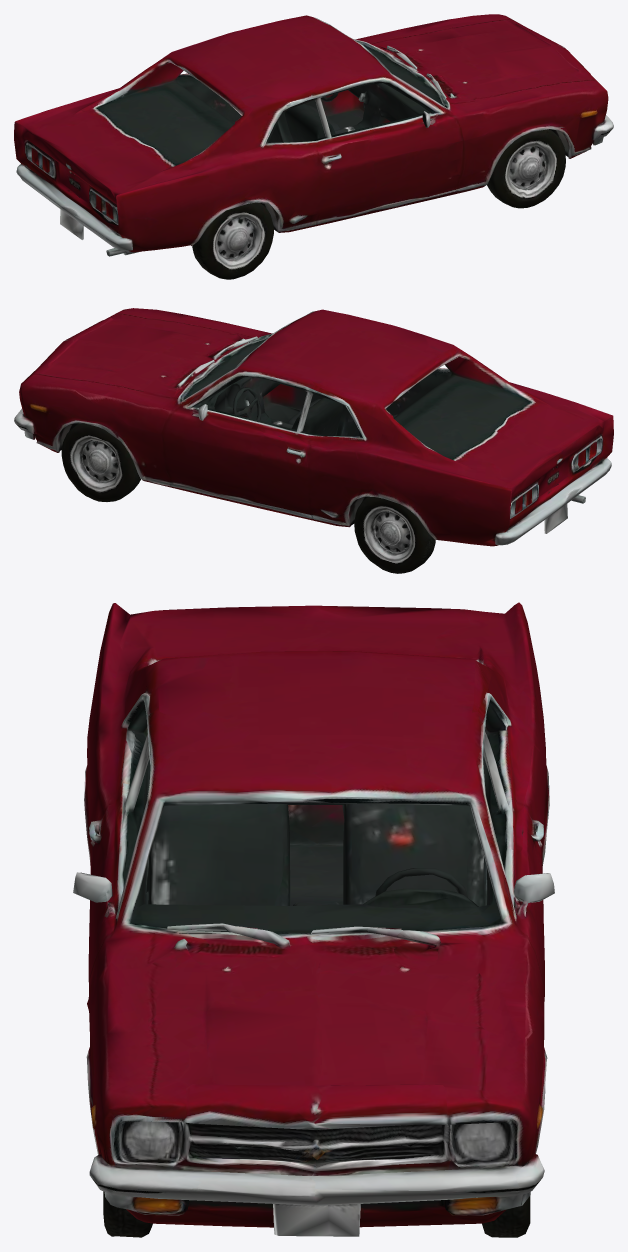
The model's file is car_sedan_red.glb.
The picture shows the model from 3 angles, top to bottom: view 1: azimuth 30°, elevation 25°; view 2: azimuth 150°, elevation 25°; view 3: azimuth 270°, elevation 25°; orthographic projection. The views are drawn at different scales.
Parts seen in each view (by area): view 1: tripo_node_29f23b44-8fce-4db1-bb77-dd0b0ff199e8; view 2: tripo_node_29f23b44-8fce-4db1-bb77-dd0b0ff199e8; view 3: tripo_node_29f23b44-8fce-4db1-bb77-dd0b0ff199e8.
Boxes of the visible parts, left/top/right/bottom form: tripo_node_29f23b44-8fce-4db1-bb77-dd0b0ff199e8: left=14, top=14, right=613, bottom=279; tripo_node_29f23b44-8fce-4db1-bb77-dd0b0ff199e8: left=14, top=308, right=613, bottom=573; tripo_node_29f23b44-8fce-4db1-bb77-dd0b0ff199e8: left=73, top=602, right=554, bottom=1237.
Size of the model in its own units: 0.9996 by 0.3075 by 0.4084.
1 material, 1 textured.
